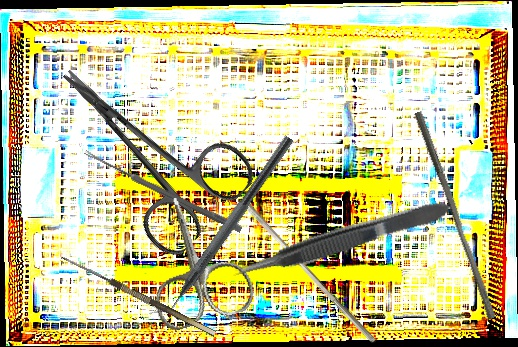Chopper: (147, 126, 295, 328)
Hook Surgical: (56, 253, 217, 345)
Iris Scissors: (24, 24, 263, 264), (128, 183, 259, 335)
Pusher: (235, 197, 383, 345), (405, 110, 504, 321)
Surgical Spoon: (83, 149, 243, 233)
Tissue Forceps: (227, 196, 456, 286)
